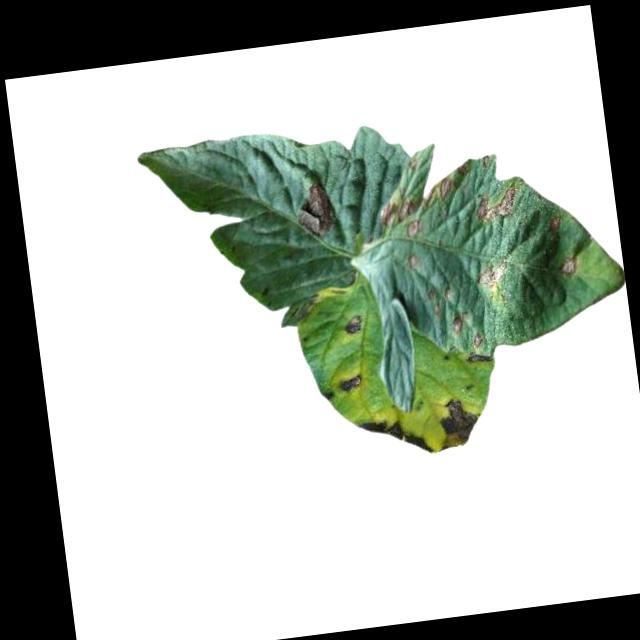Early_blight: (359, 411, 436, 462), (434, 394, 484, 452), (293, 179, 336, 241), (472, 181, 520, 223), (376, 190, 419, 228), (476, 258, 512, 288), (332, 372, 363, 395), (467, 348, 497, 366), (341, 312, 364, 335), (558, 255, 581, 278), (436, 176, 455, 200), (449, 312, 465, 333), (406, 218, 422, 236), (469, 331, 483, 349)
